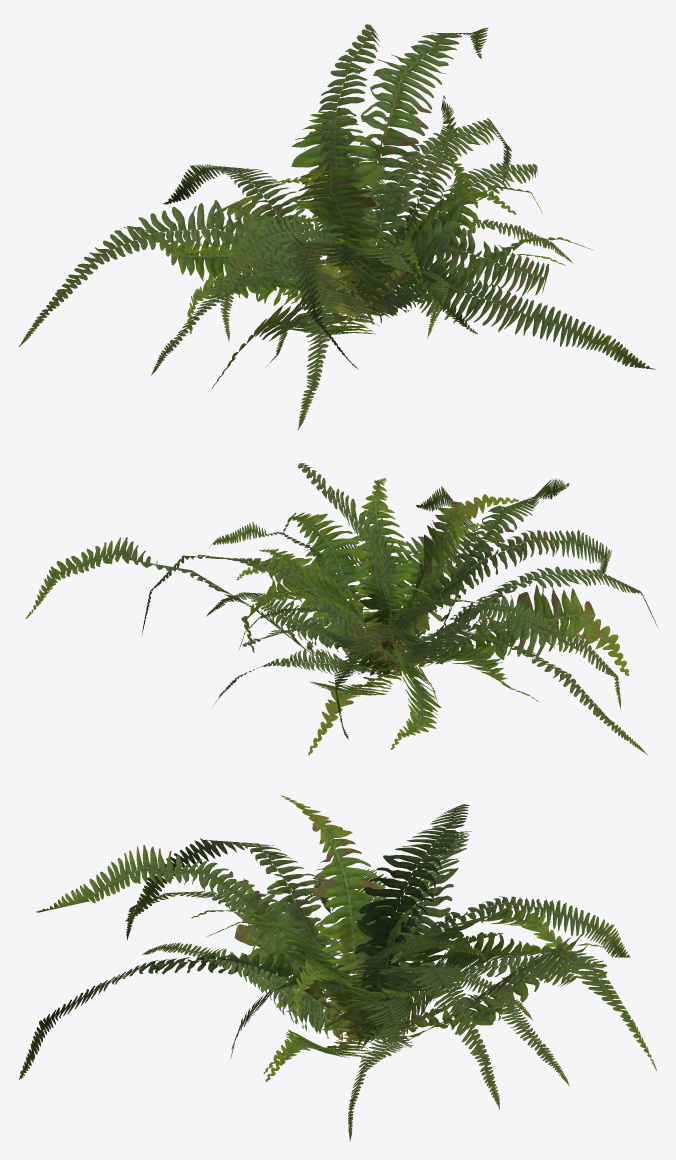
Rendered from fern_02.glb.
The picture shows the model from 3 angles, top to bottom: view 1: azimuth 30°, elevation 25°; view 2: azimuth 150°, elevation 25°; view 3: azimuth 270°, elevation 25°; orthographic projection. The views are drawn at different scales.
Visible parts, largest first — view 1: fern_large_LOD0, fern_small_a_LOD0, fern_small_b_LOD0; view 2: fern_large_LOD0, fern_small_a_LOD0, fern_small_b_LOD0; view 3: fern_large_LOD0, fern_small_a_LOD0, fern_small_b_LOD0.
Part boxes in pixels (x1,y1,x2,y2): fern_large_LOD0: [19, 24, 655, 429]; fern_small_a_LOD0: [187, 95, 549, 338]; fern_small_b_LOD0: [143, 150, 565, 366]; fern_large_LOD0: [25, 463, 658, 755]; fern_small_a_LOD0: [209, 522, 539, 705]; fern_small_b_LOD0: [236, 523, 597, 749]; fern_large_LOD0: [19, 795, 656, 1141]; fern_small_a_LOD0: [142, 870, 577, 1086]; fern_small_b_LOD0: [191, 868, 607, 1073].
Size of what is drawn, in the model's own units: 0.9815 by 0.3918 by 0.88.
Materials: 1 (1 with a texture image).
